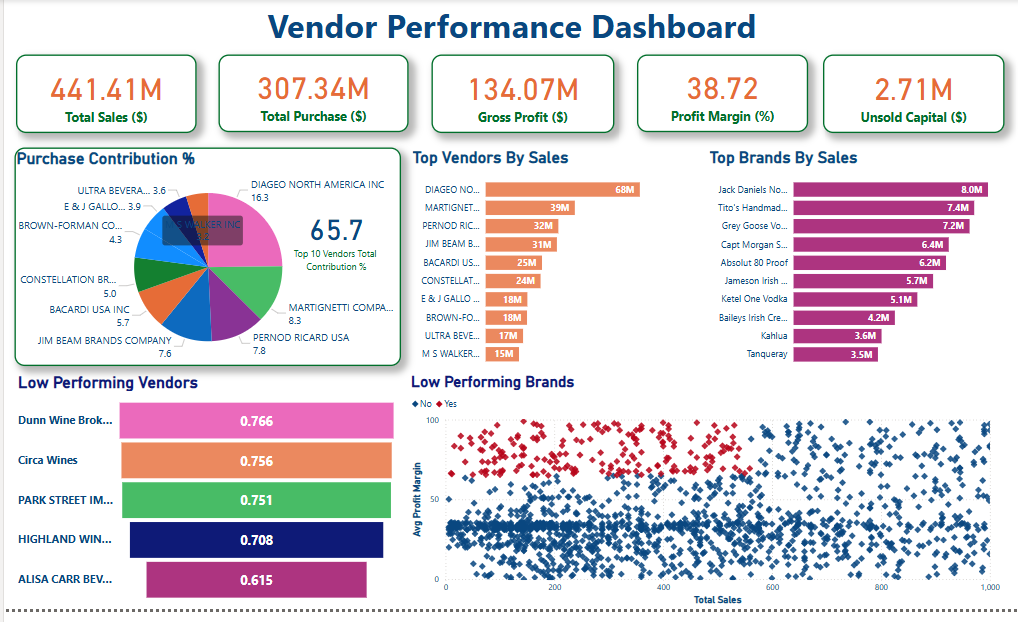

The page's visual inventory and layout, read from the dashboard file:
{"tool":"powerbi","page":{"name":"Dashboard","canvas":[1500,900],"ordinal":0},"visuals":[{"type":"card","fields":{"Values":["Sum(vendor_sales_summary.TotalPurchaseDollars)"]},"box":[315.8,82.4,280.9,114.6],"z":0},{"type":"card","fields":{"Values":["Sum(vendor_sales_summary.TotalSalesDollars)"]},"box":[16.8,81,266.9,116],"z":1000},{"type":"card","fields":{"Values":["Sum(vendor_sales_summary.GrossProfit)"]},"box":[630.2,81,269.7,116],"z":2000},{"type":"card","fields":{"Values":["Avg(vendor_sales_summary.ProfitMargin)"]},"box":[934.8,82.4,252.9,114.6],"z":3000},{"type":"card","fields":{"Values":["Sum(vendor_sales_summary.UnsoldCapital)"]},"box":[1210.1,81,268.3,116],"z":4000},{"type":"textbox","box":[0,0,1500,83],"z":5000},{"type":"pieChart","title":"Purchase Contribution % ","fields":{"Category":["PurchaseContribution.VendorName"],"Y":["Sum(PurchaseContribution.PurchaseContribution%)"]},"box":[14.5,219.4,571,322.6],"z":6000},{"type":"card","fields":{"Values":["Sum(PurchaseContribution.PurchaseContribution%)"]},"box":[396.4,263.5,188.2,161.7],"z":7000},{"type":"barChart","title":"Top Vendors By Sales","fields":{"Category":["vendor_sales_summary.VendorName"],"Y":["Sum(vendor_sales_summary.TotalSalesDollars)"]},"box":[597.9,219.2,398.6,332.2],"z":8000},{"type":"barChart","title":"Top Brands By Sales","fields":{"Category":["vendor_sales_summary.Description"],"Y":["Sum(vendor_sales_summary.TotalSalesDollars)"]},"box":[1036.4,219.2,462.8,332.2],"z":9000},{"type":"funnel","title":"Low Performing Vendors","fields":{"Category":["LowTurnoverVendor.VendorName"],"Y":["Avg(LowTurnoverVendor.AvgStockTurnOver)"]},"box":[16.1,551.6,569.4,348.4],"z":10000},{"type":"scatterChart","title":"Low Performing Brands","fields":{"X":["Sum(BrandPerformance.TotalSales)"],"Y":["Sum(BrandPerformance.AvgProfitMargin)"],"Series":["BrandPerformance.TargetBrand"],"Category":["BrandPerformance.Description"]},"box":[596.8,551.6,880.6,348.4],"z":11000}]}

Visuals, with their boxes in screenshot pixels (x1, y1, x2, y2), scaled from the page's 1500x900 canvas onto the 1018x622 screenshot:
card - Sum(vendor_sales_summary.TotalPurchaseDollars): x1=214 y1=57 x2=405 y2=136
card - Sum(vendor_sales_summary.TotalSalesDollars): x1=11 y1=56 x2=193 y2=136
card - Sum(vendor_sales_summary.GrossProfit): x1=428 y1=56 x2=611 y2=136
card - Avg(vendor_sales_summary.ProfitMargin): x1=634 y1=57 x2=806 y2=136
card - Sum(vendor_sales_summary.UnsoldCapital): x1=821 y1=56 x2=1003 y2=136
textbox: x1=0 y1=0 x2=1017 y2=57
"Purchase Contribution % " pieChart: x1=10 y1=152 x2=397 y2=375
card - Sum(PurchaseContribution.PurchaseContribution%): x1=269 y1=182 x2=397 y2=294
"Top Vendors By Sales" barChart: x1=406 y1=151 x2=676 y2=381
"Top Brands By Sales" barChart: x1=703 y1=151 x2=1017 y2=381
"Low Performing Vendors" funnel: x1=11 y1=381 x2=397 y2=621
"Low Performing Brands" scatterChart: x1=405 y1=381 x2=1003 y2=621
